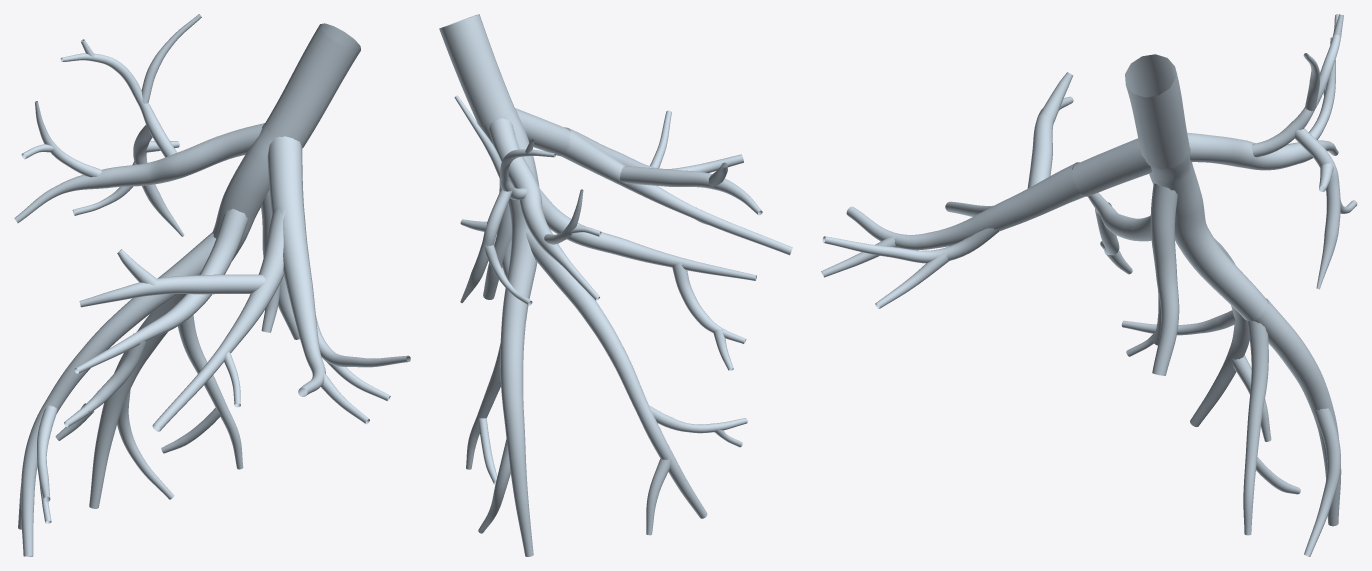
The model's file is visceras-intermediate-bronchus-r.glb.
3 renders of one model, left to right at view 1: azimuth 30°, elevation 25°; view 2: azimuth 150°, elevation 25°; view 3: azimuth 270°, elevation 25°, orthographic. The views are drawn at different scales.
Visible parts, largest first — view 1: Superior segmental bronchus of right lung (BVI), Lateral segmental bronchus of right lung (BIV), Lateral basal segmental bronchus of right lung (BIX), Posterior basal segmental bronchus of right lung (BX), Medial segmental bronchus of right lung (BV), Intermediate bronchus.r, Anterior basal segmental bronchus of right lung (BVIII), Right inferior lobar bronchus, Middle lobar bronchus.r, Medial basal segmental bronchus of right lung (BVII); view 2: Superior segmental bronchus of right lung (BVI), Lateral basal segmental bronchus of right lung (BIX), Posterior basal segmental bronchus of right lung (BX), Lateral segmental bronchus of right lung (BIV), Anterior basal segmental bronchus of right lung (BVIII), Intermediate bronchus.r, Right inferior lobar bronchus, Medial segmental bronchus of right lung (BV), Middle lobar bronchus.r, Medial basal segmental bronchus of right lung (BVII); view 3: Posterior basal segmental bronchus of right lung (BX), Medial segmental bronchus of right lung (BV), Superior segmental bronchus of right lung (BVI), Right inferior lobar bronchus, Intermediate bronchus.r, Medial basal segmental bronchus of right lung (BVII), Lateral basal segmental bronchus of right lung (BIX), Middle lobar bronchus.r, Lateral segmental bronchus of right lung (BIV), Anterior basal segmental bronchus of right lung (BVIII).
Boxes of the visible parts, box(x1,y1,x2,y2) form: Superior segmental bronchus of right lung (BVI): box(14, 14, 264, 236); Lateral segmental bronchus of right lung (BIV): box(79, 207, 294, 431); Lateral basal segmental bronchus of right lung (BIX): box(18, 232, 215, 556); Posterior basal segmental bronchus of right lung (BX): box(89, 299, 243, 508); Medial segmental bronchus of right lung (BV): box(275, 207, 410, 424); Intermediate bronchus.r: box(265, 23, 360, 148); Anterior basal segmental bronchus of right lung (BVIII): box(55, 209, 247, 440); Right inferior lobar bronchus: box(172, 123, 278, 304); Middle lobar bronchus.r: box(267, 136, 304, 215); Medial basal segmental bronchus of right lung (BVII): box(261, 190, 299, 339); Superior segmental bronchus of right lung (BVI): box(454, 95, 601, 305); Lateral basal segmental bronchus of right lung (BIX): box(526, 229, 747, 535); Posterior basal segmental bronchus of right lung (BX): box(466, 316, 533, 556); Lateral segmental bronchus of right lung (BIV): box(561, 128, 792, 255); Anterior basal segmental bronchus of right lung (BVIII): box(539, 189, 756, 370); Intermediate bronchus.r: box(439, 14, 515, 126); Right inferior lobar bronchus: box(480, 110, 539, 320); Medial segmental bronchus of right lung (BV): box(564, 110, 743, 173); Middle lobar bronchus.r: box(515, 108, 570, 156); Medial basal segmental bronchus of right lung (BVII): box(483, 182, 511, 299); Posterior basal segmental bronchus of right lung (BX): box(1243, 298, 1341, 556); Medial segmental bronchus of right lung (BV): box(821, 163, 1084, 308); Superior segmental bronchus of right lung (BVI): box(1187, 14, 1357, 289); Right inferior lobar bronchus: box(1149, 143, 1268, 321); Intermediate bronchus.r: box(1125, 54, 1189, 169); Medial basal segmental bronchus of right lung (BVII): box(1150, 183, 1179, 375); Lateral basal segmental bronchus of right lung (BIX): box(1121, 238, 1271, 441); Middle lobar bronchus.r: box(1072, 138, 1152, 196); Lateral segmental bronchus of right lung (BIV): box(945, 72, 1085, 216); Anterior basal segmental bronchus of right lung (BVIII): box(1087, 192, 1151, 274).
Bounding box in the file's own units: 0.116 × 0.1711 × 0.1521.
